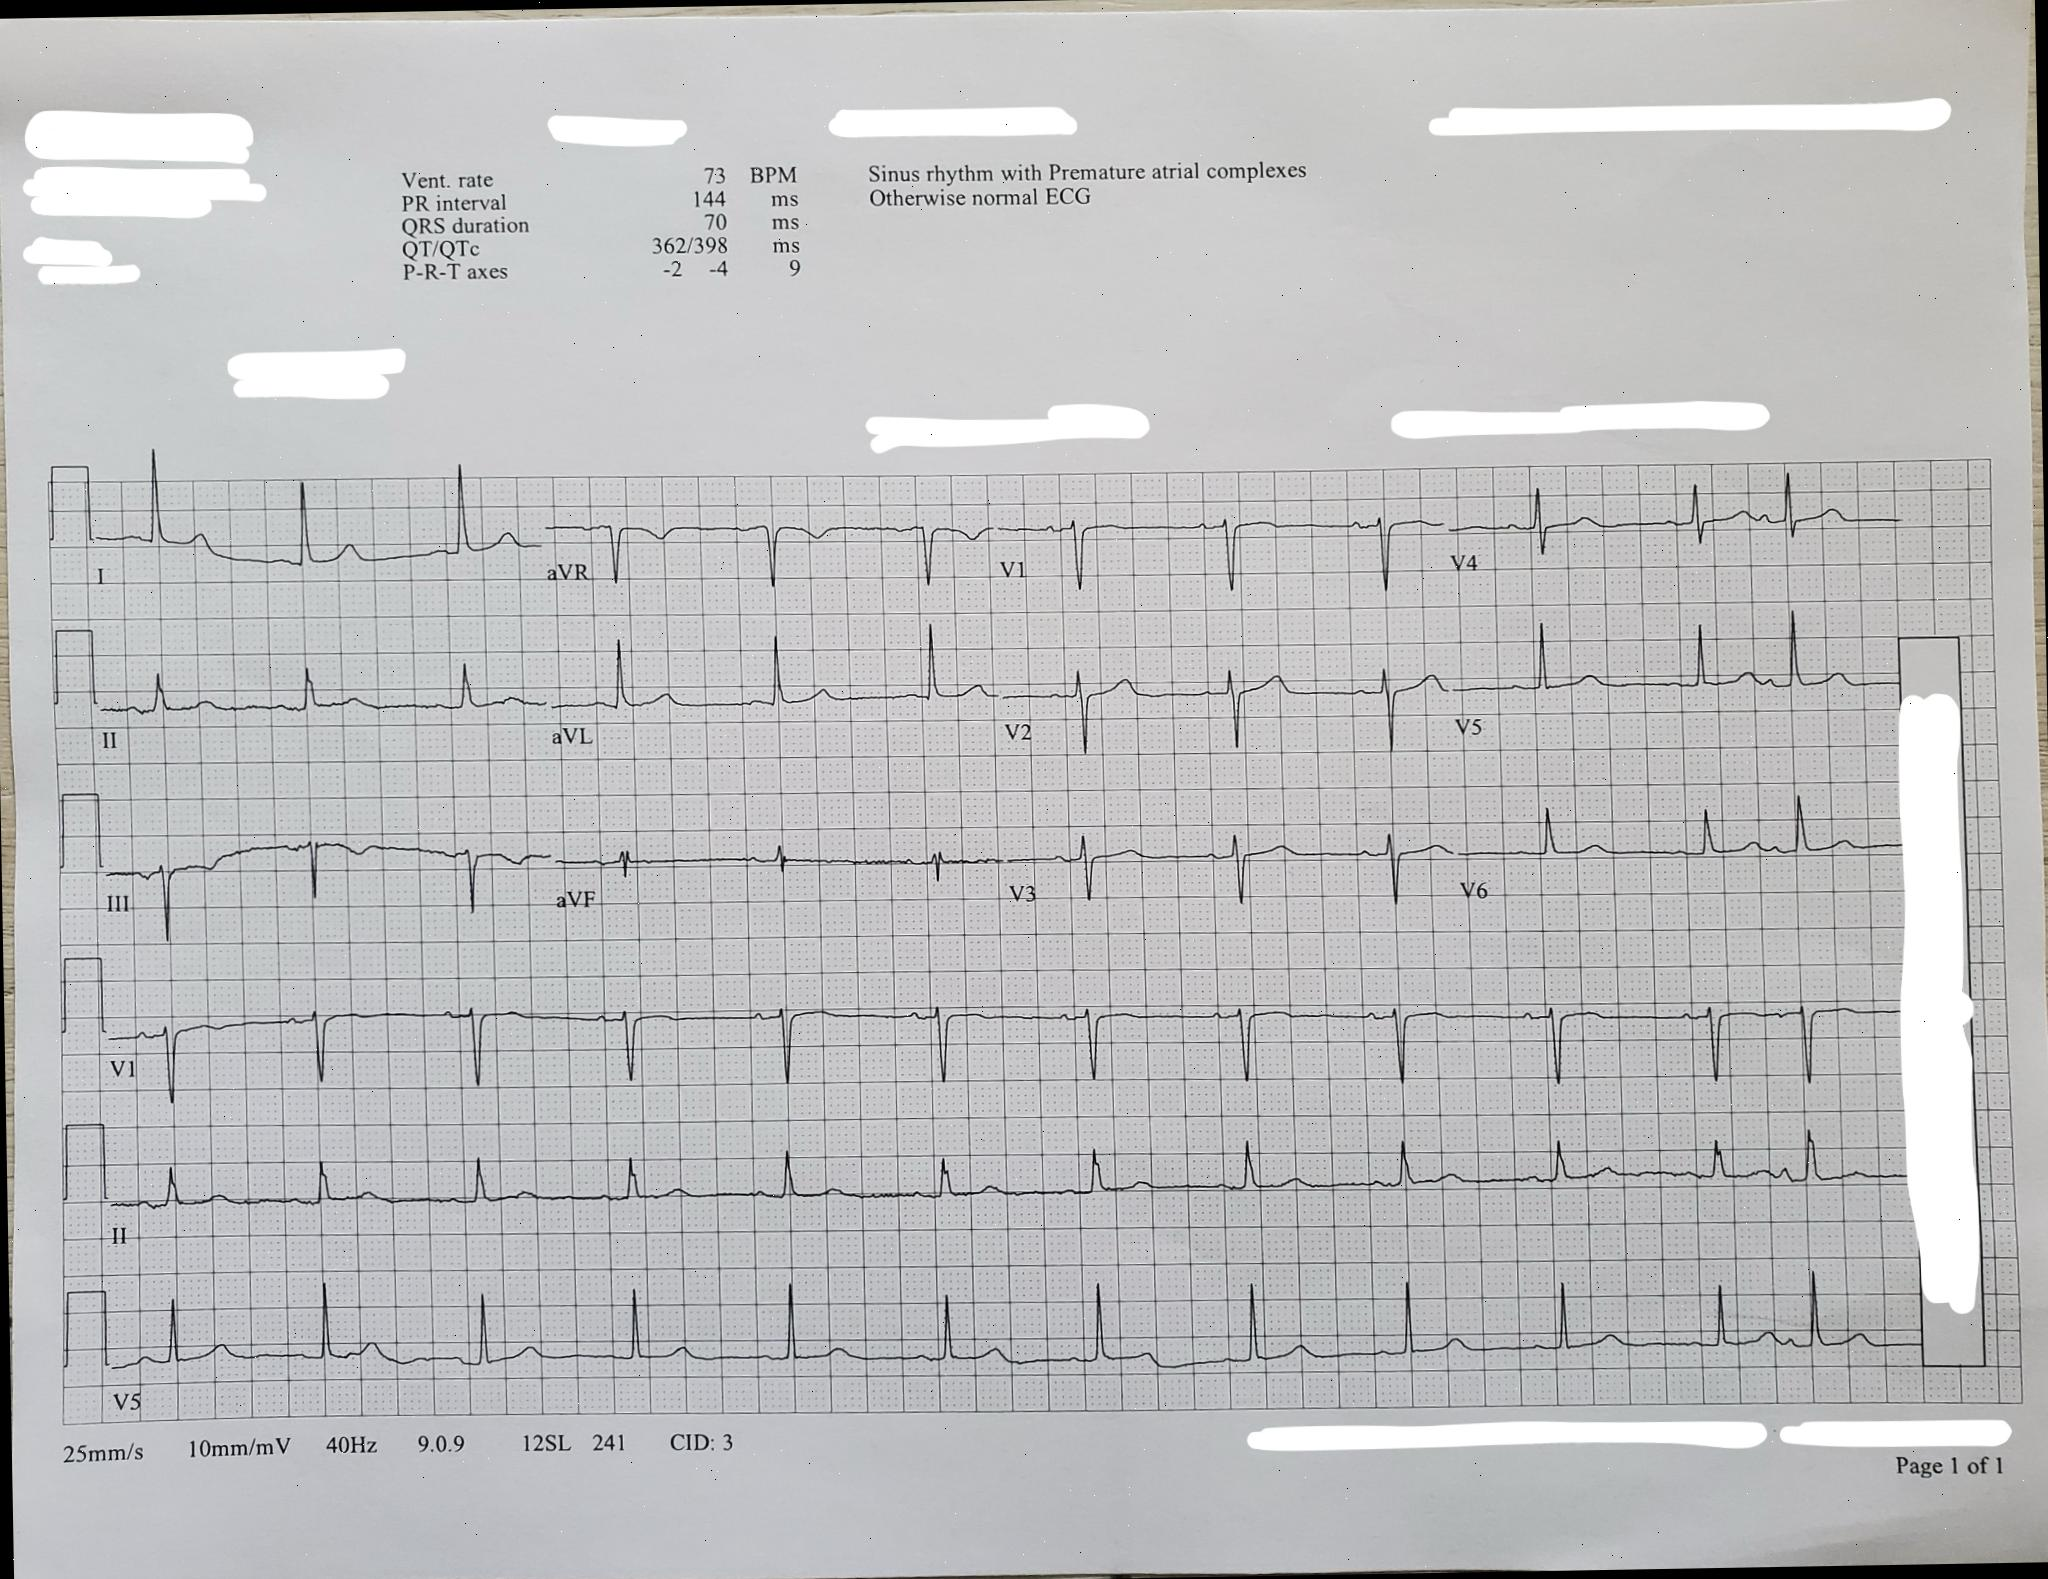Lead_I: (78, 443, 531, 609)
Lead_II: (86, 617, 537, 783)
Lead_III: (90, 799, 541, 955)
Lead_II_ext: (101, 1111, 1889, 1261)
Lead_V1: (993, 459, 1446, 614), (108, 975, 544, 1128)
Lead_V2: (998, 614, 1456, 771)
Lead_V3: (997, 781, 1458, 955)
Lead_V4: (1443, 461, 1924, 599)
Lead_V5: (1451, 594, 1889, 750), (104, 1279, 554, 1428)
Lead_V6: (1451, 773, 1892, 932)
Lead_aVF: (541, 793, 987, 972)
Lead_aVL: (537, 612, 985, 786)
Lead_aVR: (536, 463, 992, 607)
